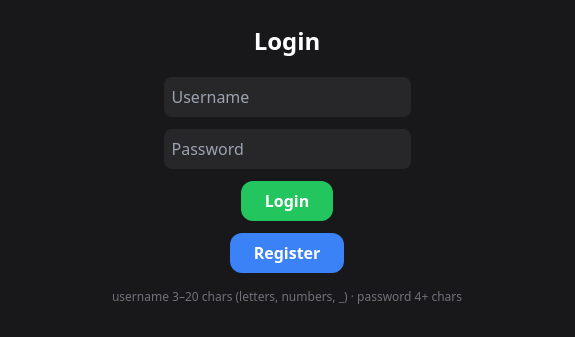
Test: Login failure UX › shows register rejections inline instead of claiming success
Type "james" into the field with placeholder "Username".
click(287, 97); type("james")  # box [164, 77, 410, 117]
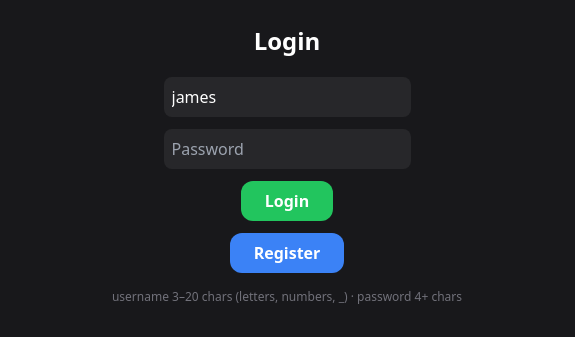
Type "123" into the password field with placeholder "Password".
click(287, 149); type("123")  # box [164, 129, 410, 169]
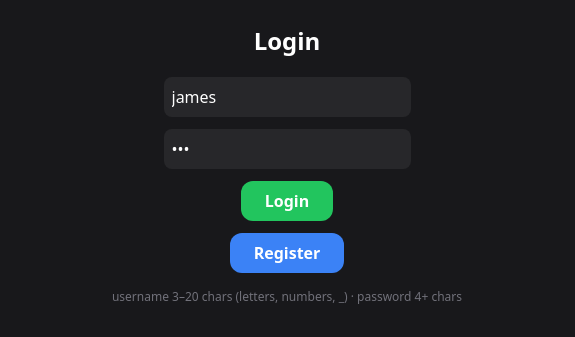
Click the button "Register".
click(287, 253)  # box [230, 233, 344, 273]
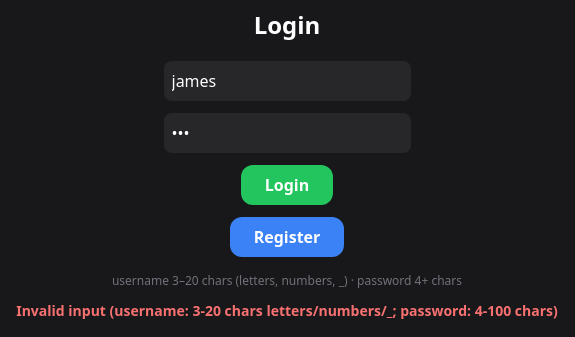
Expected: the message shows "Invalid input", [16, 301, 558, 320]
